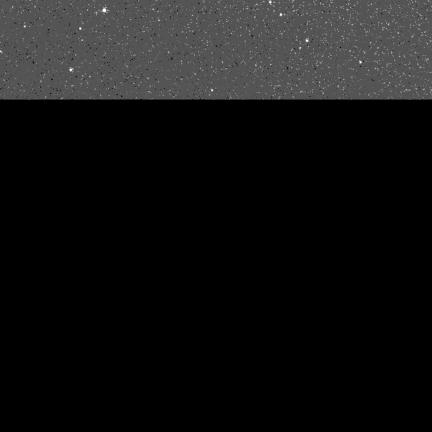blob: (280, 13, 283, 17), (360, 61, 363, 64), (79, 27, 82, 30), (103, 9, 106, 12)
